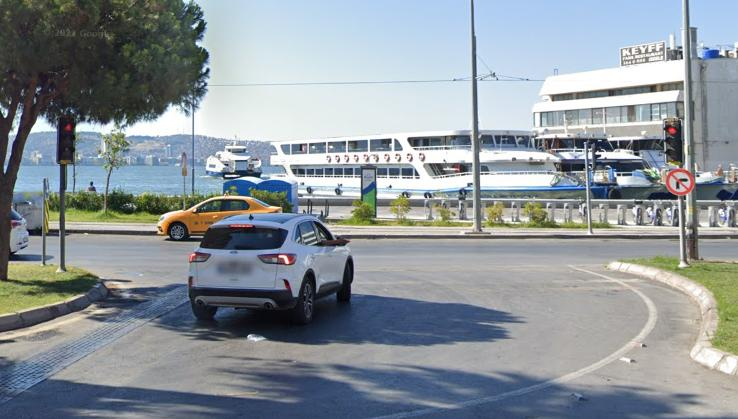redlight: (55, 117, 79, 164), (663, 116, 684, 167)
rightturnsareforbidden: (666, 169, 694, 195)
